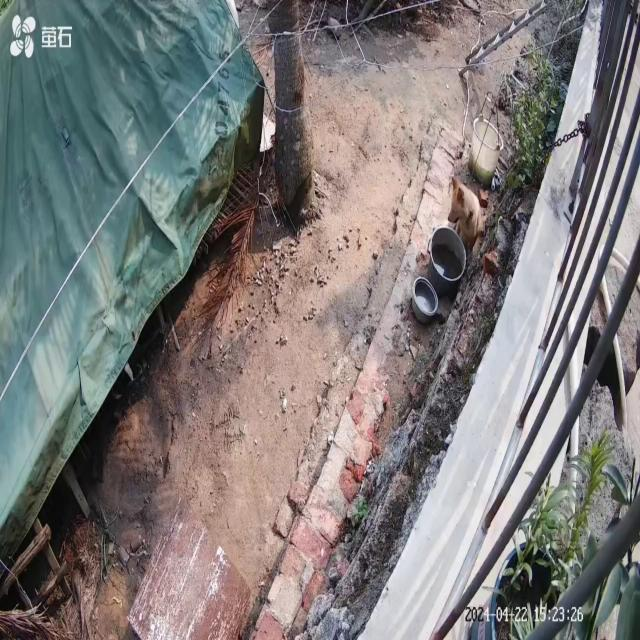dog: (449, 177, 483, 251)
